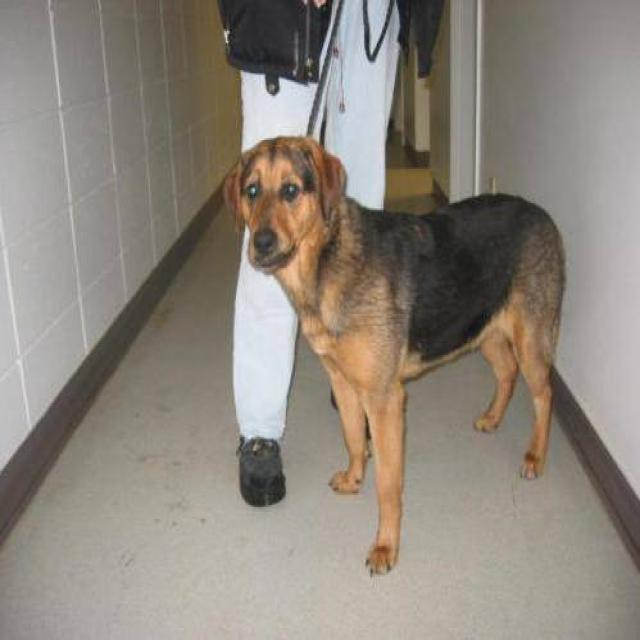dog: (222, 133, 567, 577)
